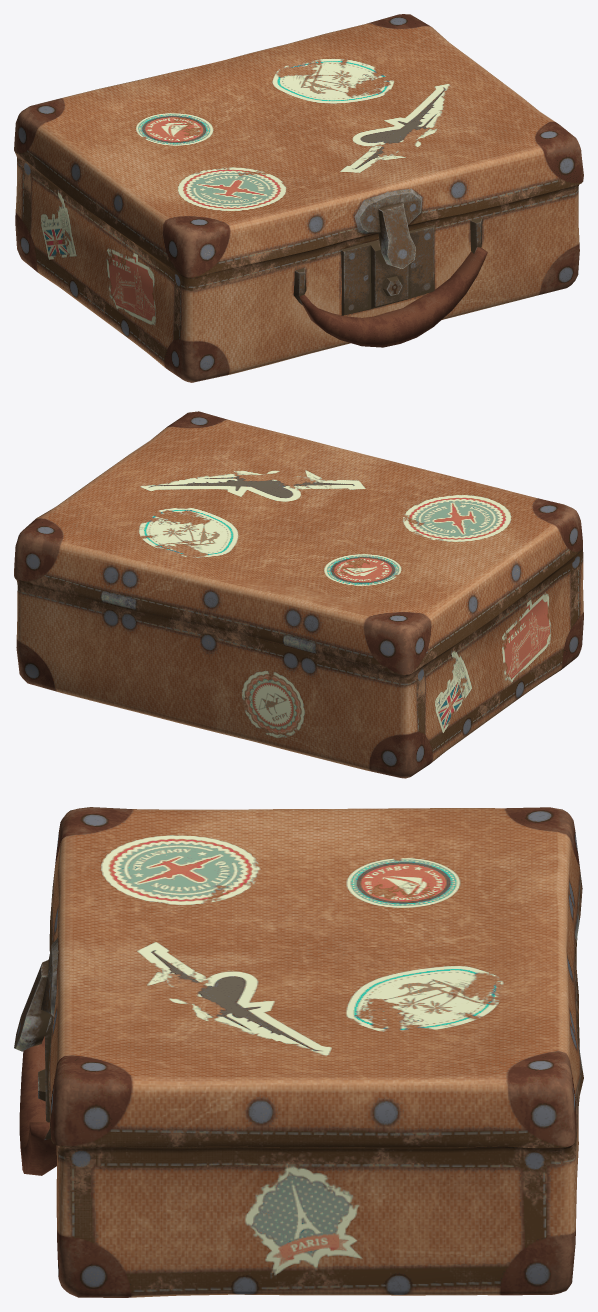
File: texturing_suitcase_challenge.gltf
3 views of the same model, one above another, from view 1: azimuth 30°, elevation 25°; view 2: azimuth 150°, elevation 25°; view 3: azimuth 270°, elevation 25° (orthographic). The views are drawn at different scales.
Visible parts, largest first — view 1: suitcase-sketchfab-texturing-challenge_01 - Default_0; view 2: suitcase-sketchfab-texturing-challenge_01 - Default_0; view 3: suitcase-sketchfab-texturing-challenge_01 - Default_0.
Part boxes in pixels (left/top/right/bottom): suitcase-sketchfab-texturing-challenge_01 - Default_0: left=14, top=14, right=583, bottom=382; suitcase-sketchfab-texturing-challenge_01 - Default_0: left=14, top=411, right=583, bottom=778; suitcase-sketchfab-texturing-challenge_01 - Default_0: left=14, top=807, right=583, bottom=1297.
Size of the model in its own units: 0.5061 by 0.1869 by 0.4193.
Materials: 1 (1 with a texture image).
